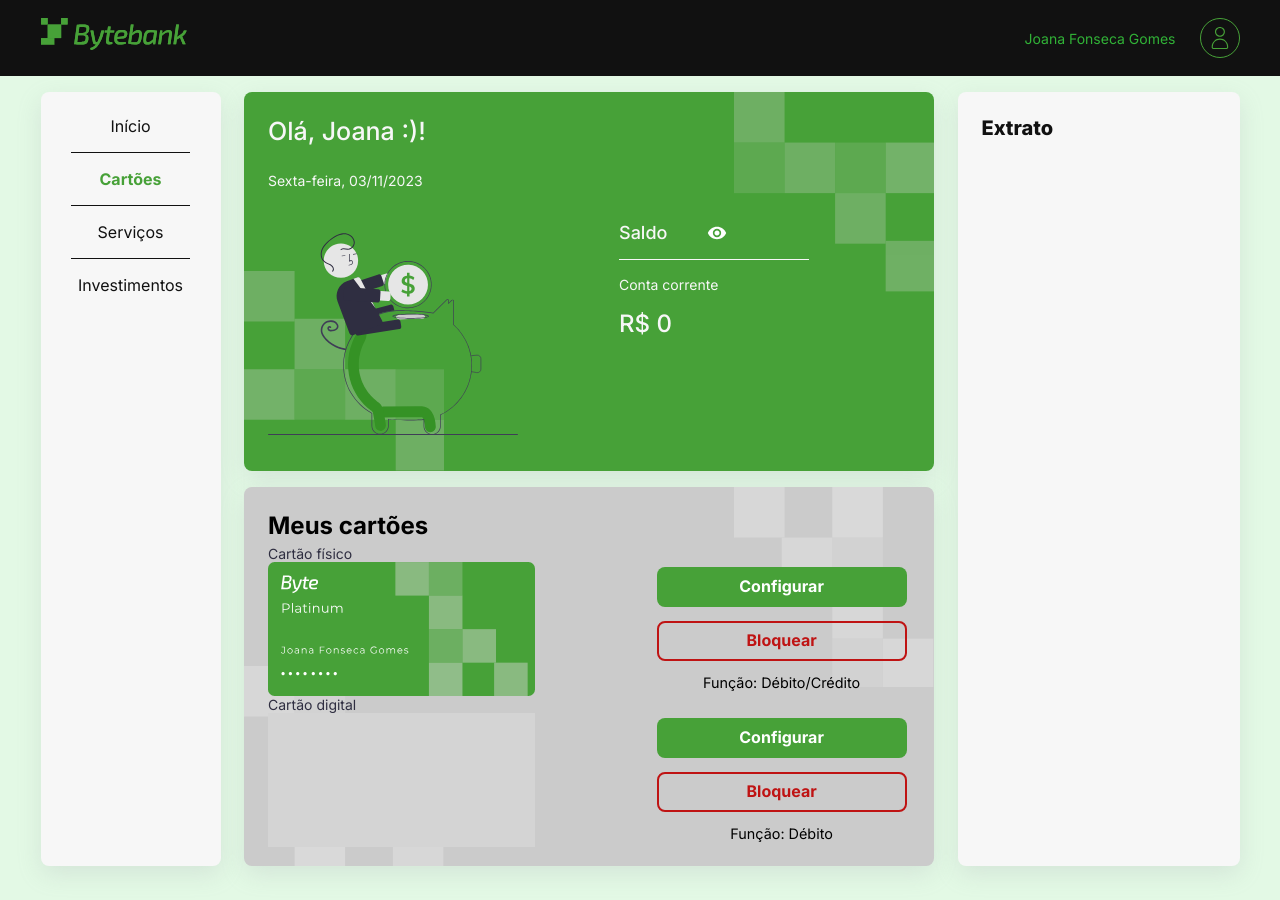
Test: <App/> component › must navigate to the investment page when corresponding link is clicked
Click the link "Investimentos" at (130, 285), box [78,275,183,295]
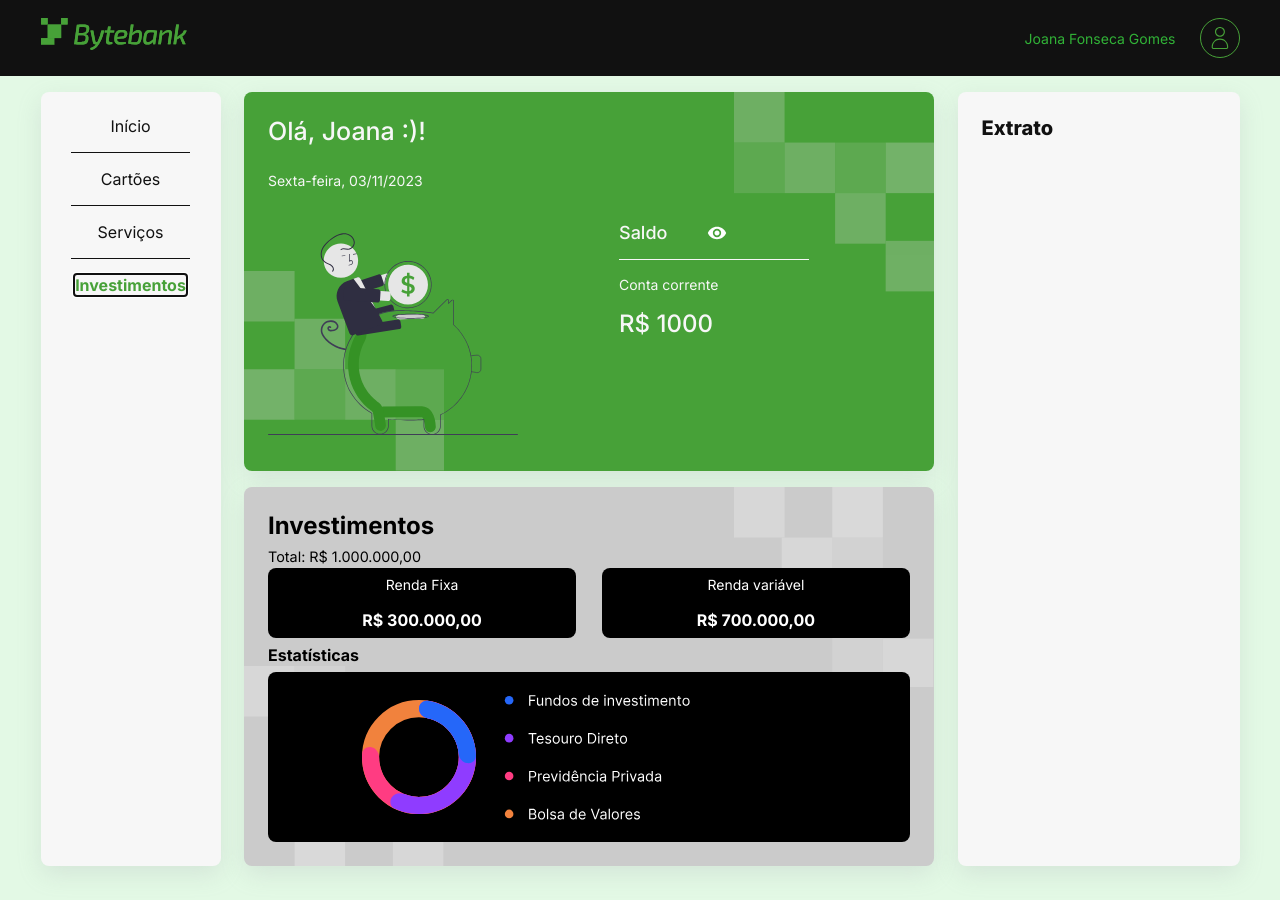
Check: the element with test id "investimentos" is shown, box [244,487,934,866]
